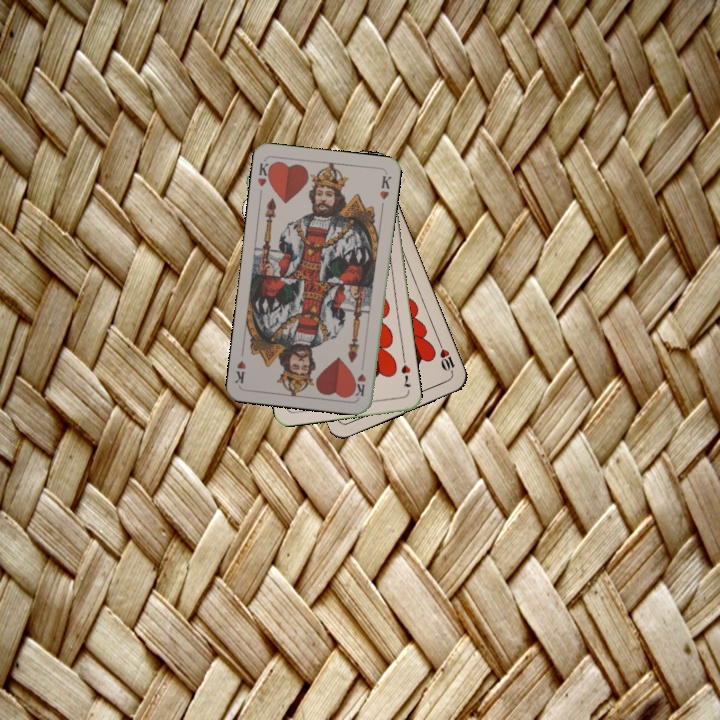H10: (434, 338, 457, 377)
H7: (397, 361, 413, 390)
HK: (350, 358, 369, 399), (253, 159, 275, 189)
